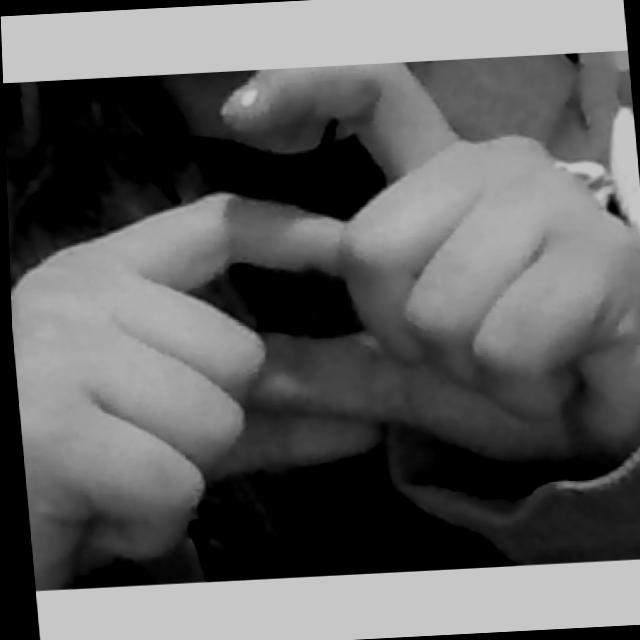G-: (2, 48, 640, 589)
